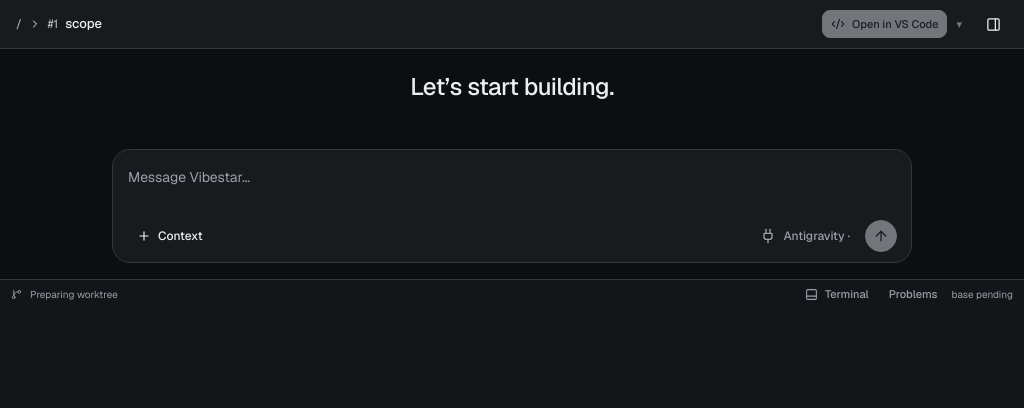
Test: restores a sent instruction when the host saves it at an approval boundary
Type "Keep this instruction pending" into the text box named "Task conversation" at [512, 191], box [127,162,897,220]
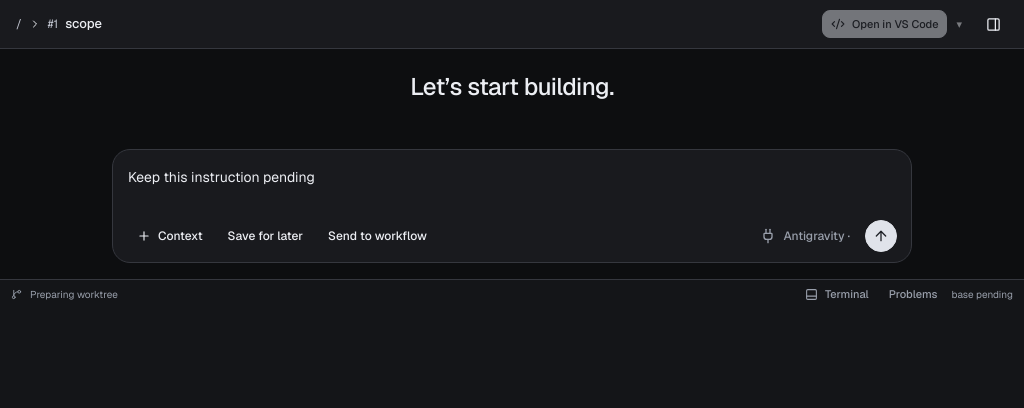
Click the button "Send to workflow" at [378, 236], box [318,222,437,250]
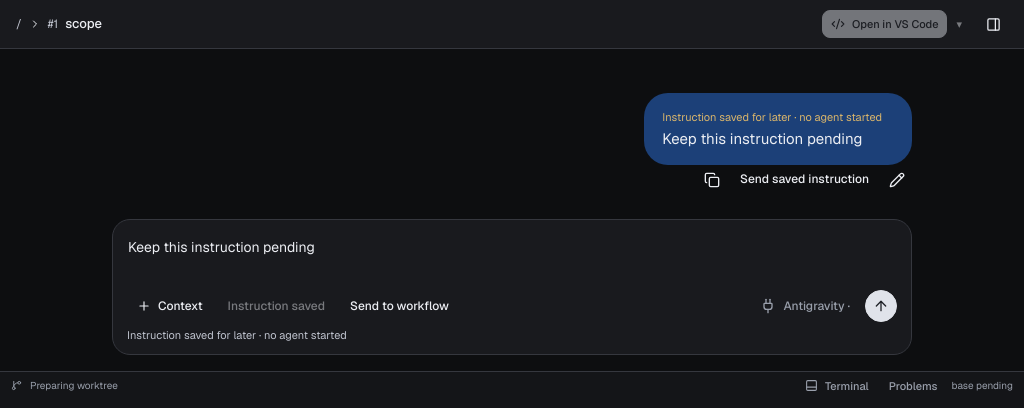
Now the button "Instruction saved" is shown, box [218,292,335,320]
